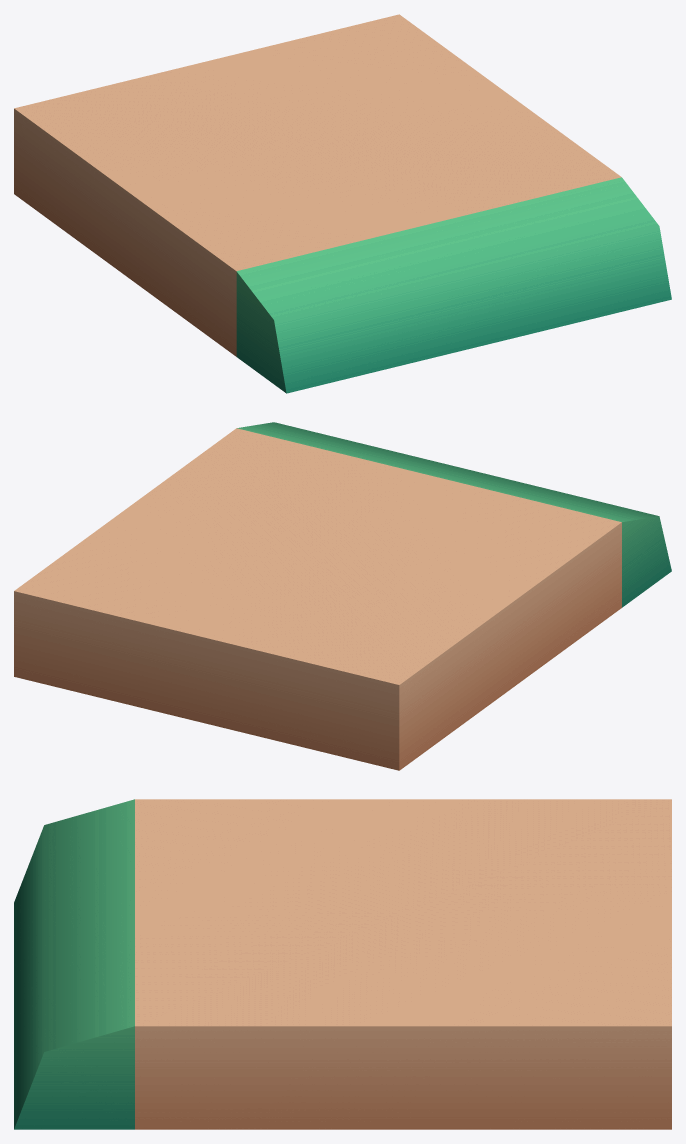
The model's file is roof-flat-awning-b.glb.
3 views of the same model, one above another, from view 1: azimuth 30°, elevation 25°; view 2: azimuth 150°, elevation 25°; view 3: azimuth 270°, elevation 25° (orthographic). The views are drawn at different scales.
Visible parts, largest first — view 1: roof-flat-awning-b; view 2: roof-flat-awning-b; view 3: roof-flat-awning-b.
Boxes of the visible parts, x1,y1,x2,y2 form: roof-flat-awning-b: [14, 14, 671, 393]; roof-flat-awning-b: [14, 422, 671, 770]; roof-flat-awning-b: [14, 799, 671, 1129].
Size of the model in its own units: 1 by 0.2125 by 1.23.
Materials: 1 (1 with a texture image).
